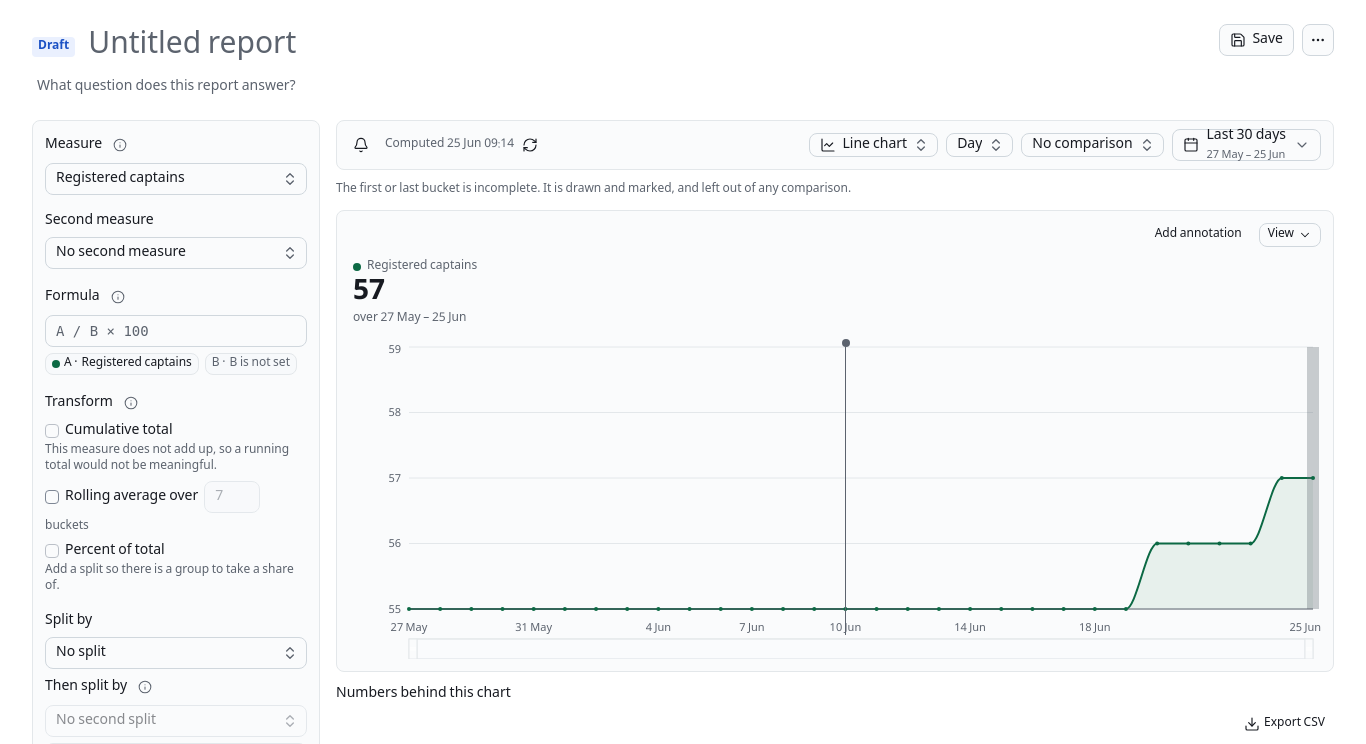
Test: the control — a mode with nothing remembered still runs, once › issues exactly one request the first time a mode is opened
The width and height of the screenshot is (1366, 744).
Expected: the text "Computed" is shown, [385, 134, 514, 155]
Click the dropdown named "Chart type" at (874, 145), box [810, 133, 938, 157]
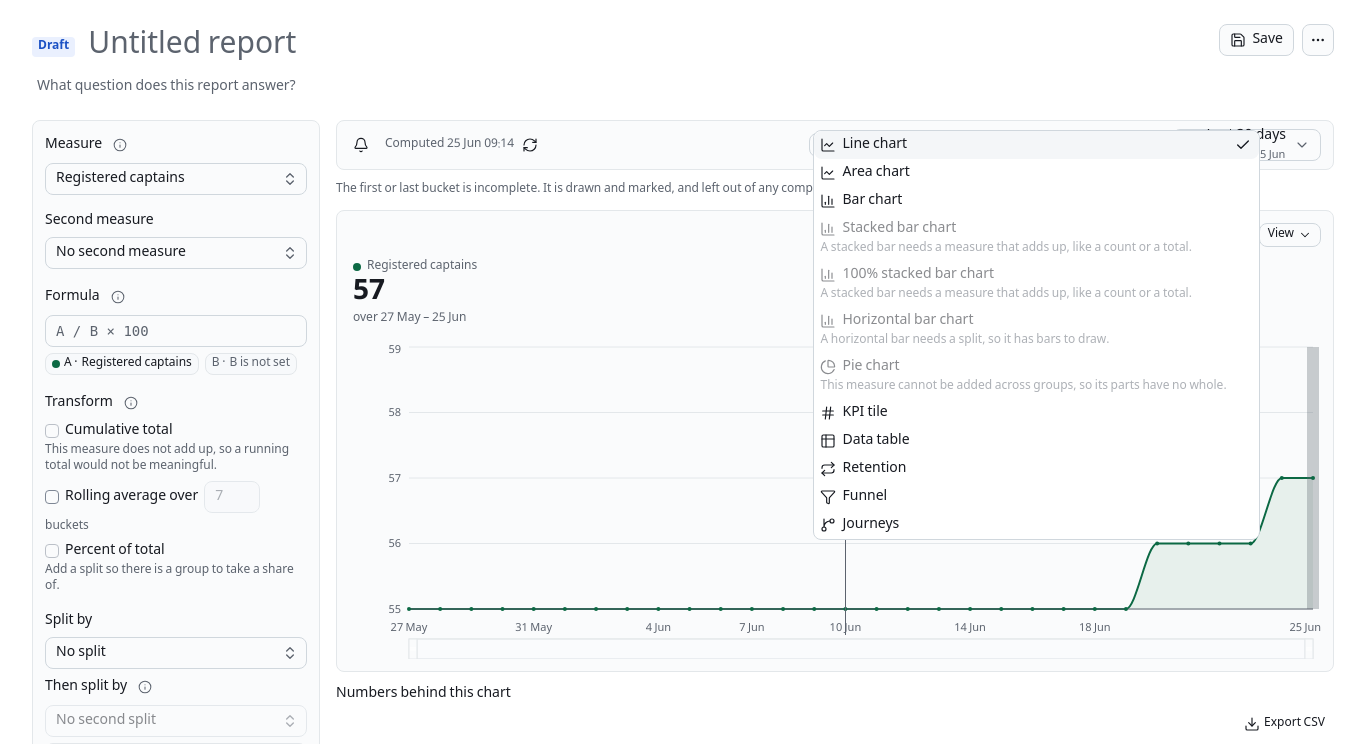
Click the option "Data table" at (865, 441), box [820, 429, 910, 453]
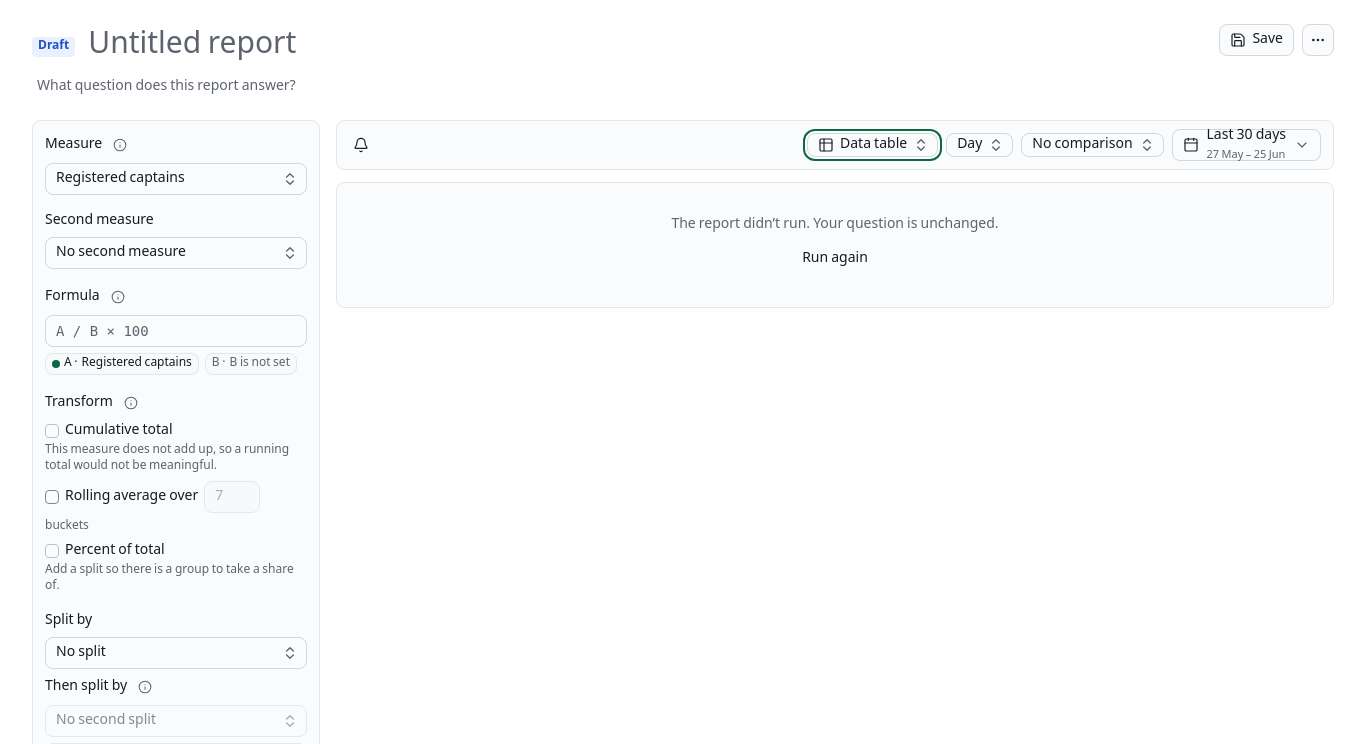
Now the text "The report didn’t run. Your question is unchanged." is shown, box [671, 215, 998, 235]
